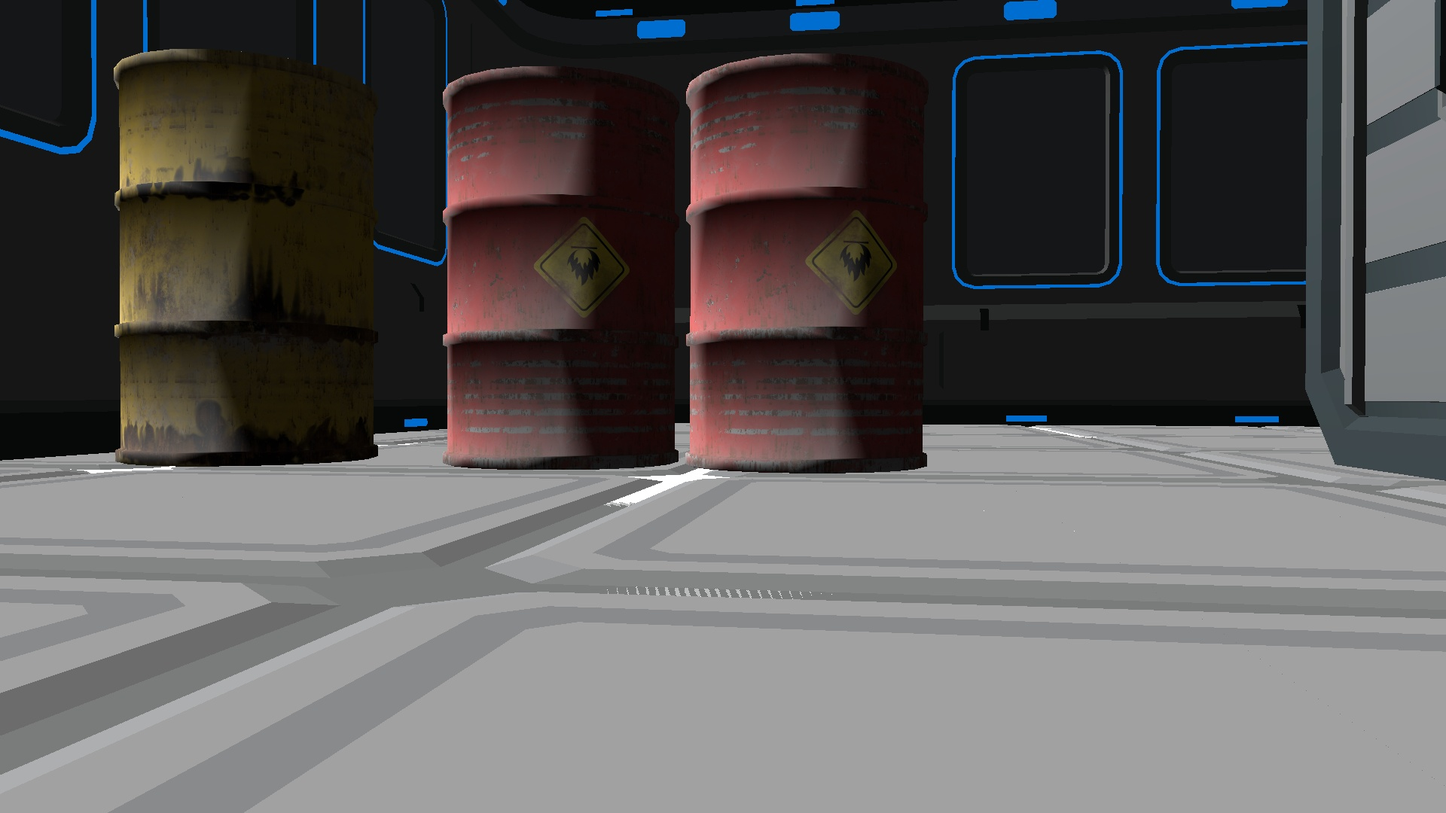toxic barrel: (114, 48, 378, 467), (685, 52, 928, 474), (443, 65, 679, 470)
